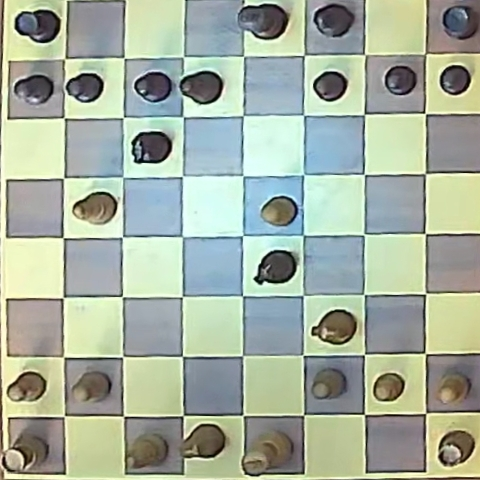black-bishop: (180, 70, 222, 104), (313, 4, 353, 38)
black-king: (238, 3, 287, 40)
black-knight: (254, 250, 296, 285), (131, 131, 171, 164)
black-pawn: (14, 74, 54, 105), (134, 71, 172, 103), (65, 72, 104, 103), (313, 71, 347, 101), (384, 65, 417, 95), (439, 65, 471, 95)
black-rook: (14, 9, 60, 44), (442, 5, 478, 39)
white-bishop: (126, 432, 167, 469), (73, 192, 116, 224)
white-king: (241, 429, 293, 476)
white-knight: (311, 310, 356, 345), (181, 424, 225, 459)
white-pawn: (6, 371, 46, 403), (71, 371, 110, 403), (260, 196, 297, 226), (436, 373, 469, 405), (312, 369, 345, 399), (373, 373, 405, 402)
white-rook: (0, 433, 47, 474), (437, 431, 474, 467)
